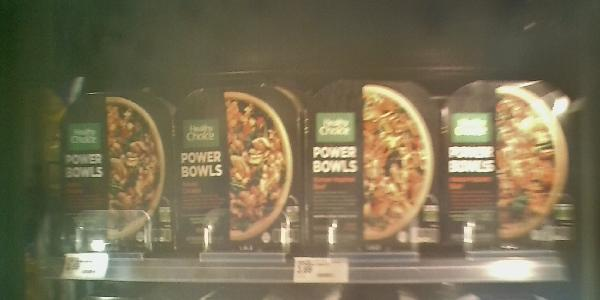pizza: (40, 87, 179, 257), (447, 80, 581, 248), (310, 82, 445, 243), (181, 83, 307, 253)
